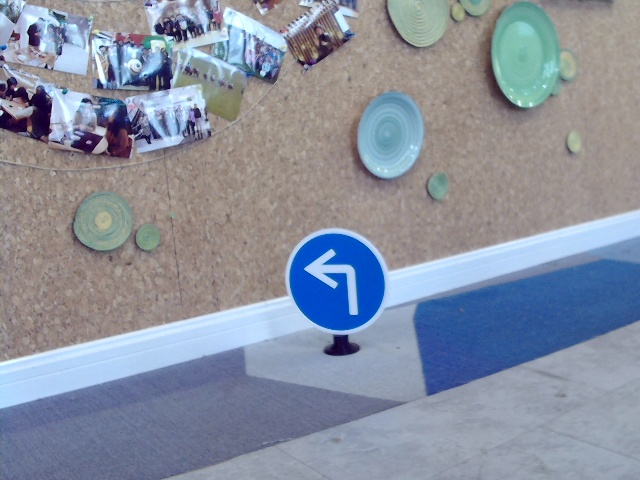turn_left: (305, 248, 363, 315)
